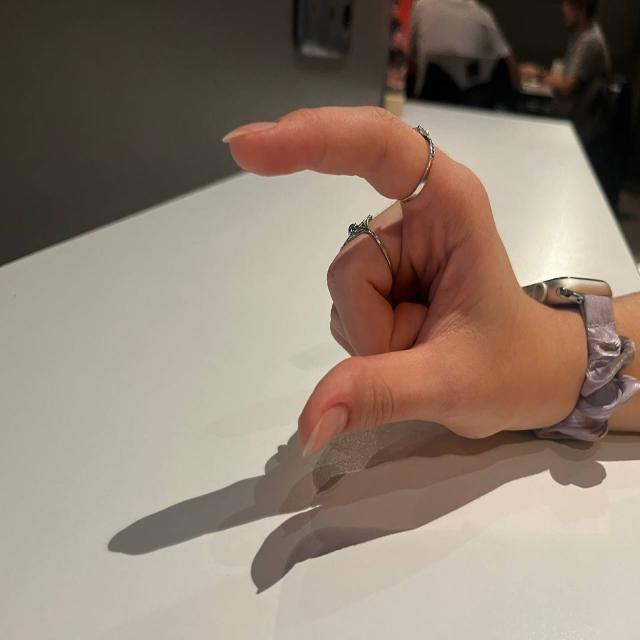uh: (221, 88, 539, 475)
